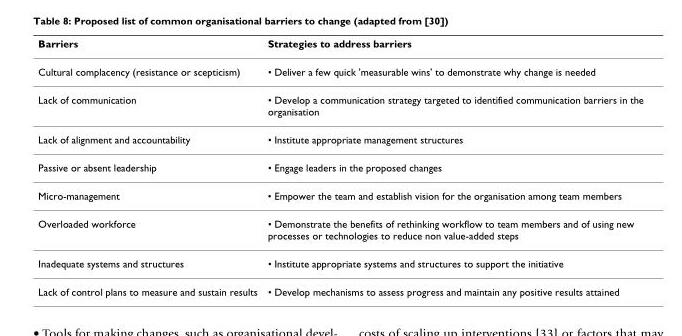table: (37, 36, 642, 297)
table column: (261, 36, 642, 297), (37, 36, 261, 297)
table column header: (37, 36, 642, 57)
table row: (37, 85, 642, 124), (37, 209, 642, 248), (37, 124, 642, 153), (37, 248, 642, 277), (37, 57, 642, 85), (37, 153, 642, 181), (37, 181, 642, 209), (37, 36, 642, 57), (37, 277, 642, 297)
